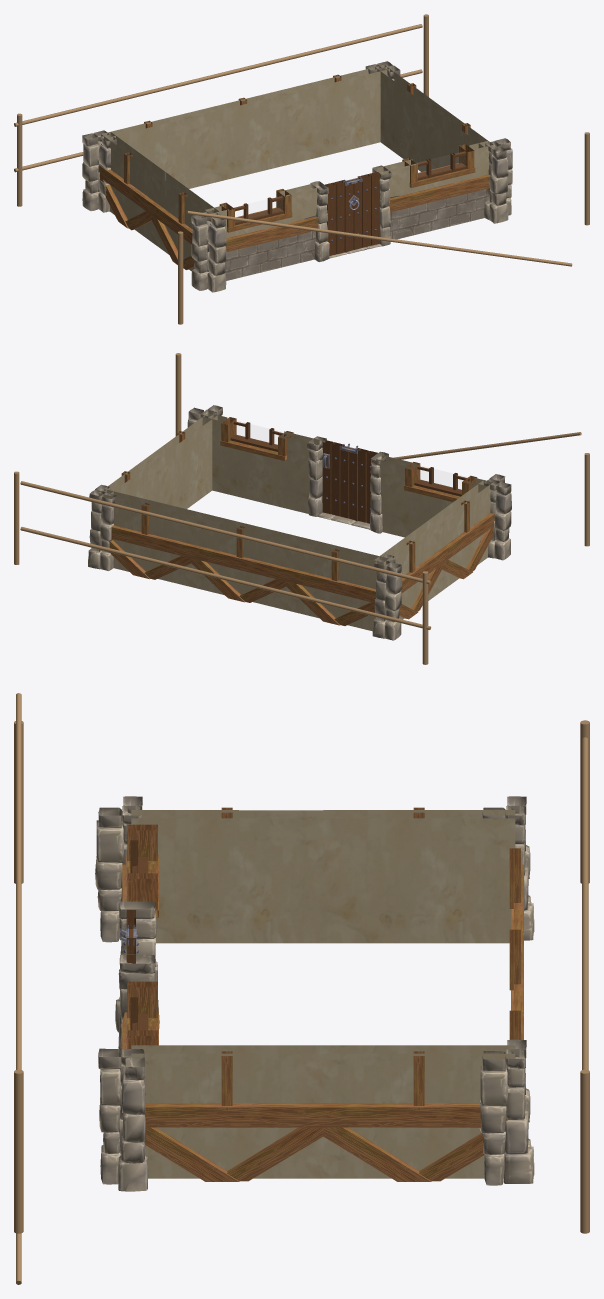
File: Building3Whole_P1.glb
3 views of the same model, one above another, from view 1: azimuth 30°, elevation 25°; view 2: azimuth 150°, elevation 25°; view 3: azimuth 270°, elevation 25° (orthographic). The views are drawn at different scales.
Visible parts, largest first — view 1: Building3Whole_P1; view 2: Building3Whole_P1; view 3: Building3Whole_P1.
Part boxes in pixels (x1,y1,x2,y2): Building3Whole_P1: (14,14,589,324); Building3Whole_P1: (14,353,589,664); Building3Whole_P1: (14,693,589,1284).
Bounding box in the file's own units: 8.76 × 3.02 × 6.
8 materials, 6 textured.
